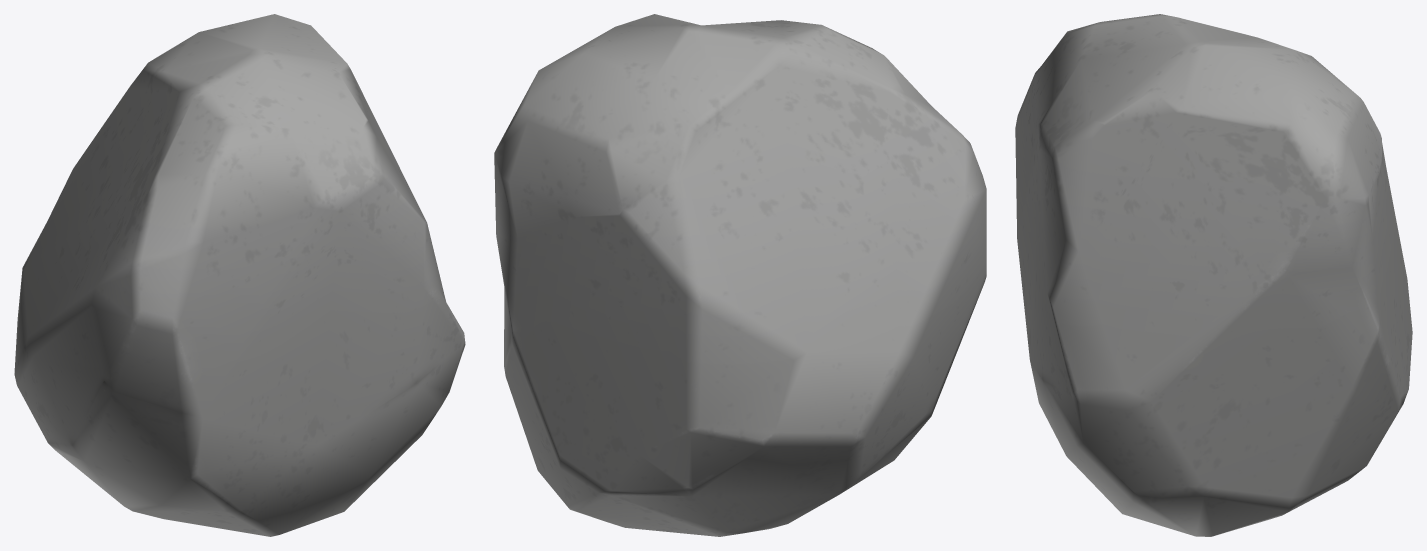
The model's file is Urock02.fbx.
3 renders of one model, left to right at view 1: azimuth 30°, elevation 25°; view 2: azimuth 150°, elevation 25°; view 3: azimuth 270°, elevation 25°, orthographic. The views are drawn at different scales.
Parts seen in each view (by area): view 1: rock01; view 2: rock01; view 3: rock01.
Boxes of the visible parts, x1=… form: rock01: x1=14, y1=14, x2=465, y2=536; rock01: x1=494, y1=14, x2=986, y2=536; rock01: x1=1015, y1=14, x2=1412, y2=536.
Bounding box in the file's own units: 600 × 712 × 548.
1 material, 1 textured.
